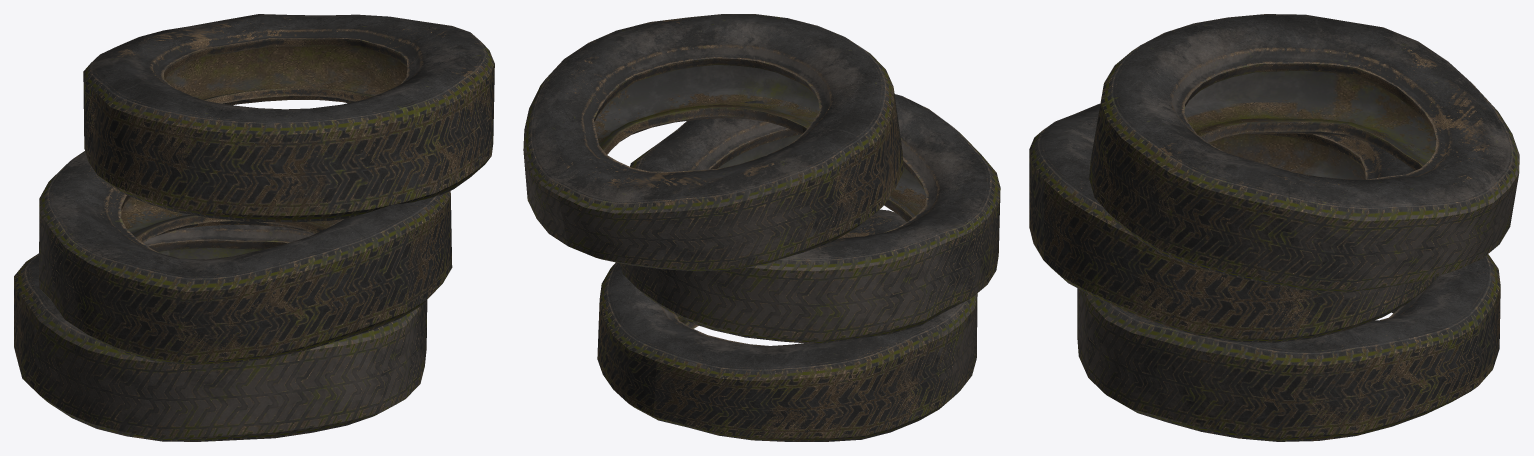
File: SM_Tire_Group.fbx
The picture shows the model from 3 angles, left to right: view 1: azimuth 30°, elevation 25°; view 2: azimuth 150°, elevation 25°; view 3: azimuth 270°, elevation 25°; orthographic projection. The views are drawn at different scales.
Visible parts, largest first — view 1: SM_Tire_Group_LOD0; view 2: SM_Tire_Group_LOD0; view 3: SM_Tire_Group_LOD0.
Part boxes in pixels (<box>): SM_Tire_Group_LOD0: <box>14,14,494,441</box>; SM_Tire_Group_LOD0: <box>523,14,1000,441</box>; SM_Tire_Group_LOD0: <box>1029,14,1519,441</box>.
Size of the model in its own units: 90.08 by 86.22 by 60.5.
